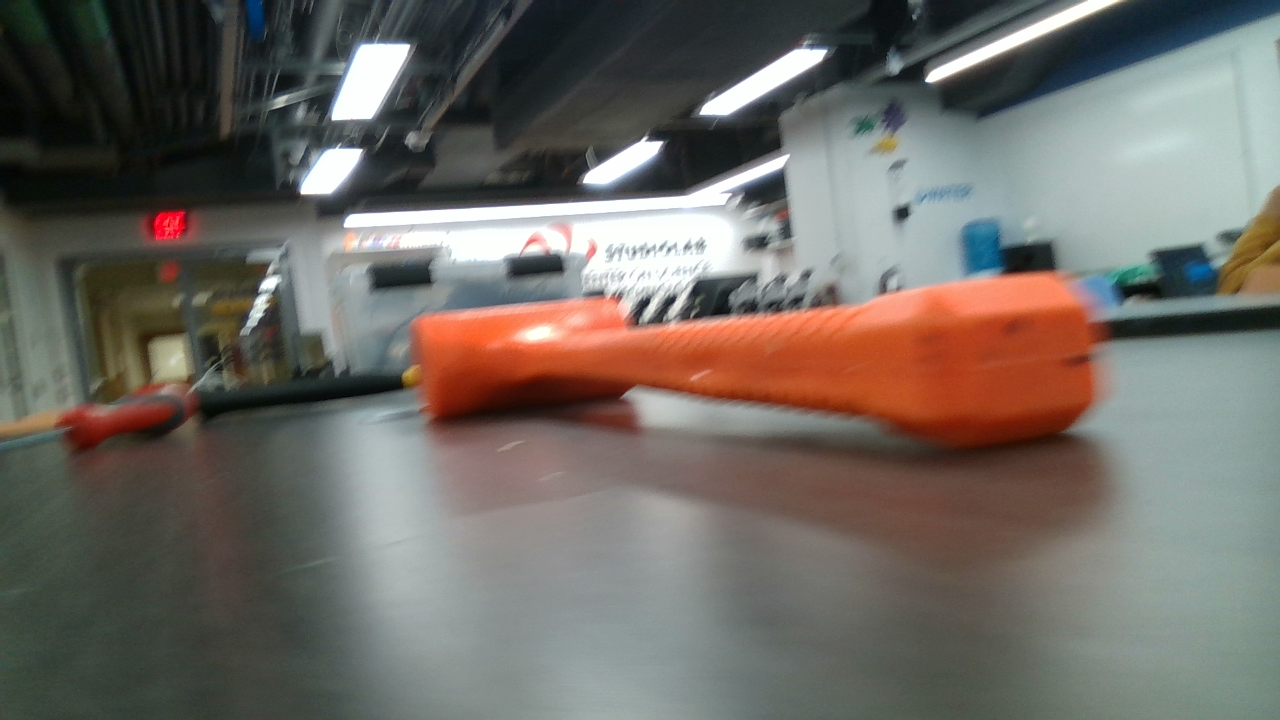Orange Hammer: (412, 268, 1098, 450)
